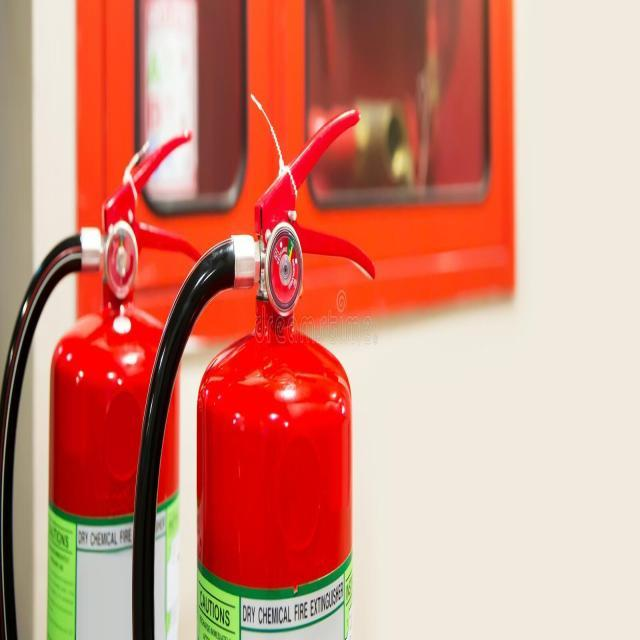fire_extinguisher: (128, 104, 379, 639), (0, 122, 209, 639)
